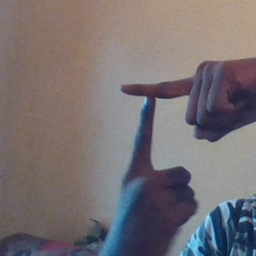T: (105, 61, 211, 187)
